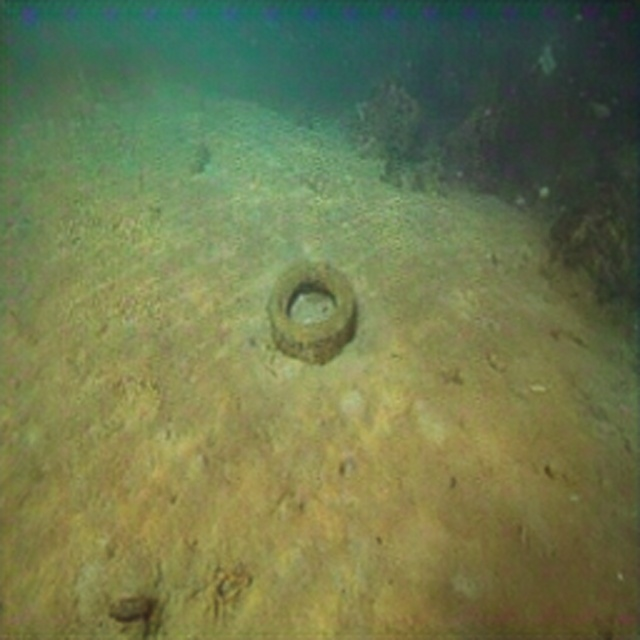mine: (267, 262, 356, 366)
